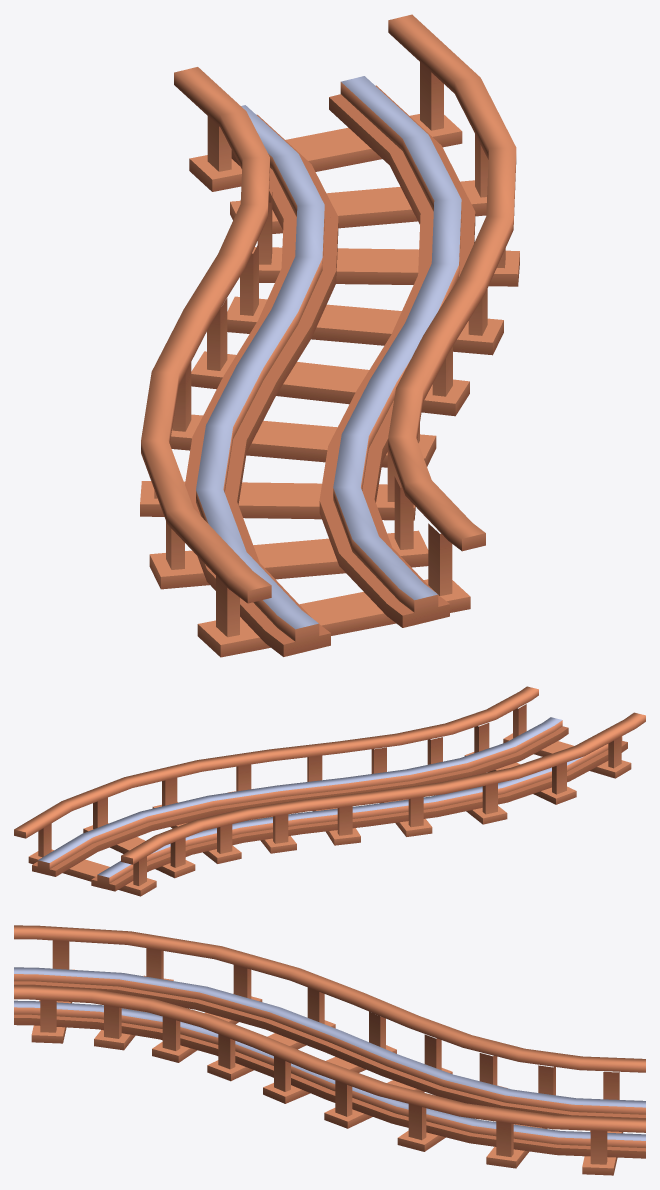
File: kenney-coaster-coaster-wood-curve.glb
The picture shows the model from 3 angles, top to bottom: view 1: azimuth 30°, elevation 25°; view 2: azimuth 150°, elevation 25°; view 3: azimuth 270°, elevation 25°; orthographic projection. The views are drawn at different scales.
Visible parts, largest first — view 1: coaster-wood-curve; view 2: coaster-wood-curve; view 3: coaster-wood-curve.
Part boxes in pixels (<box>): coaster-wood-curve: <box>140,14,519,657</box>; coaster-wood-curve: <box>14,686,645,896</box>; coaster-wood-curve: <box>14,925,645,1175</box>.
Bounding box in the file's own units: 3 × 0.3501 × 4.
Materials: 1 (1 with a texture image).
